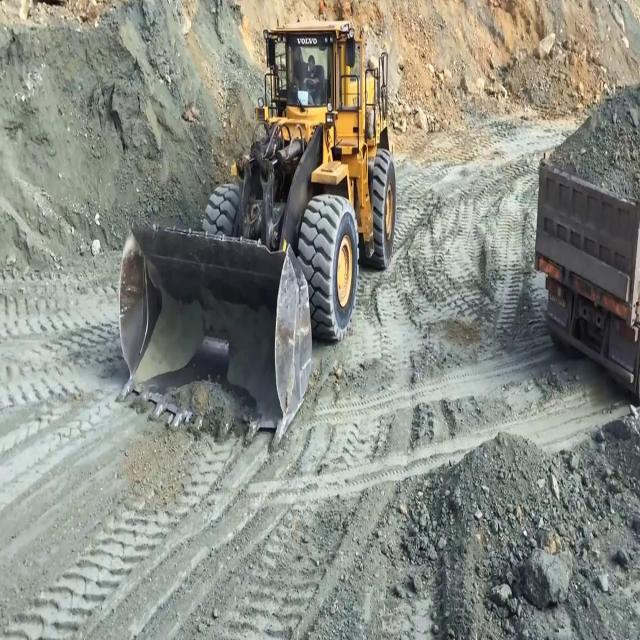Dump Truck: (531, 49, 638, 412)
Loader: (101, 14, 407, 448)
